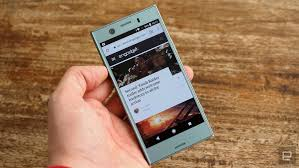sony: (88, 3, 213, 168)
